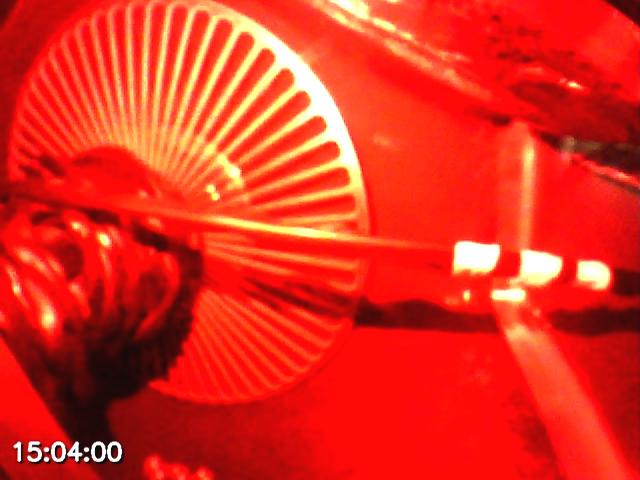white-dots: (453, 241, 610, 294)
